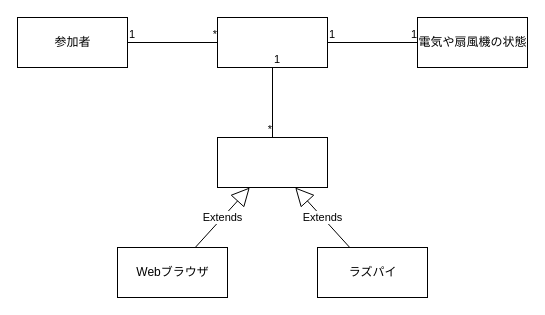
Image size: 545x315. Some labels were removed from this diagram. The shapes that lost their labels are listed below. From the top down, each one's centre as x and y in pixels, then its label:
At [272,42]: "ルーム".
At [272,162]: "接続クライアント".
